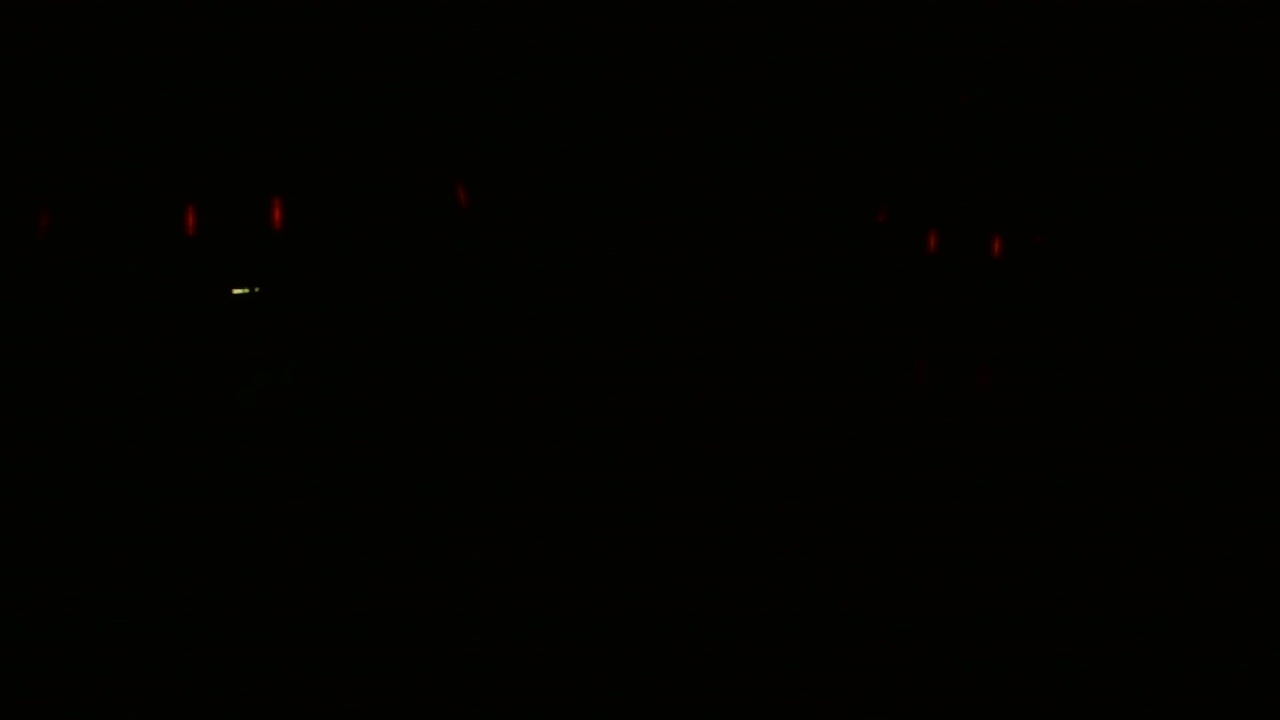pair1: (175, 196, 290, 240), (926, 228, 1003, 259)
